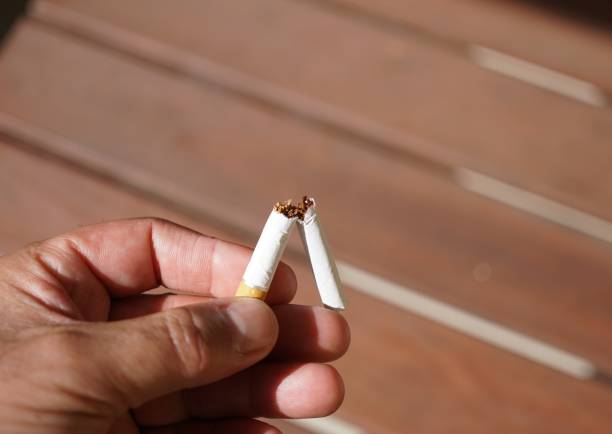cigarette: (236, 196, 299, 301), (296, 194, 351, 314)
